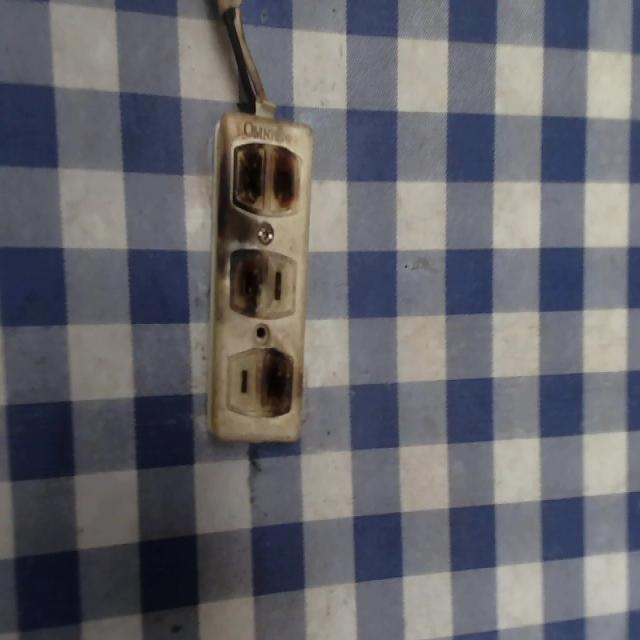-: (226, 133, 304, 219), (223, 244, 272, 316), (260, 345, 295, 419)
